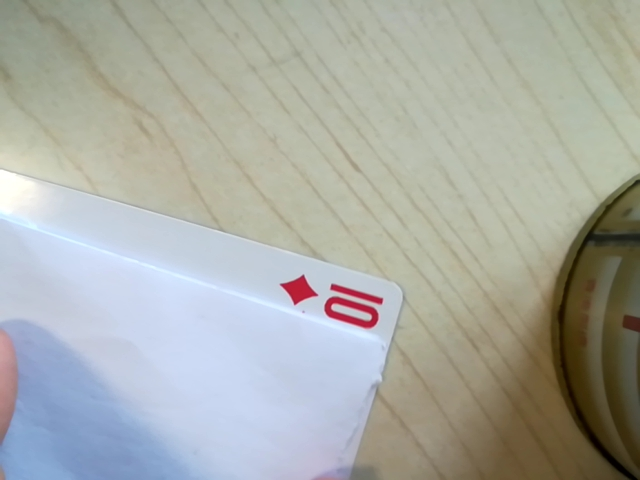fk 10: (284, 269, 394, 335)
